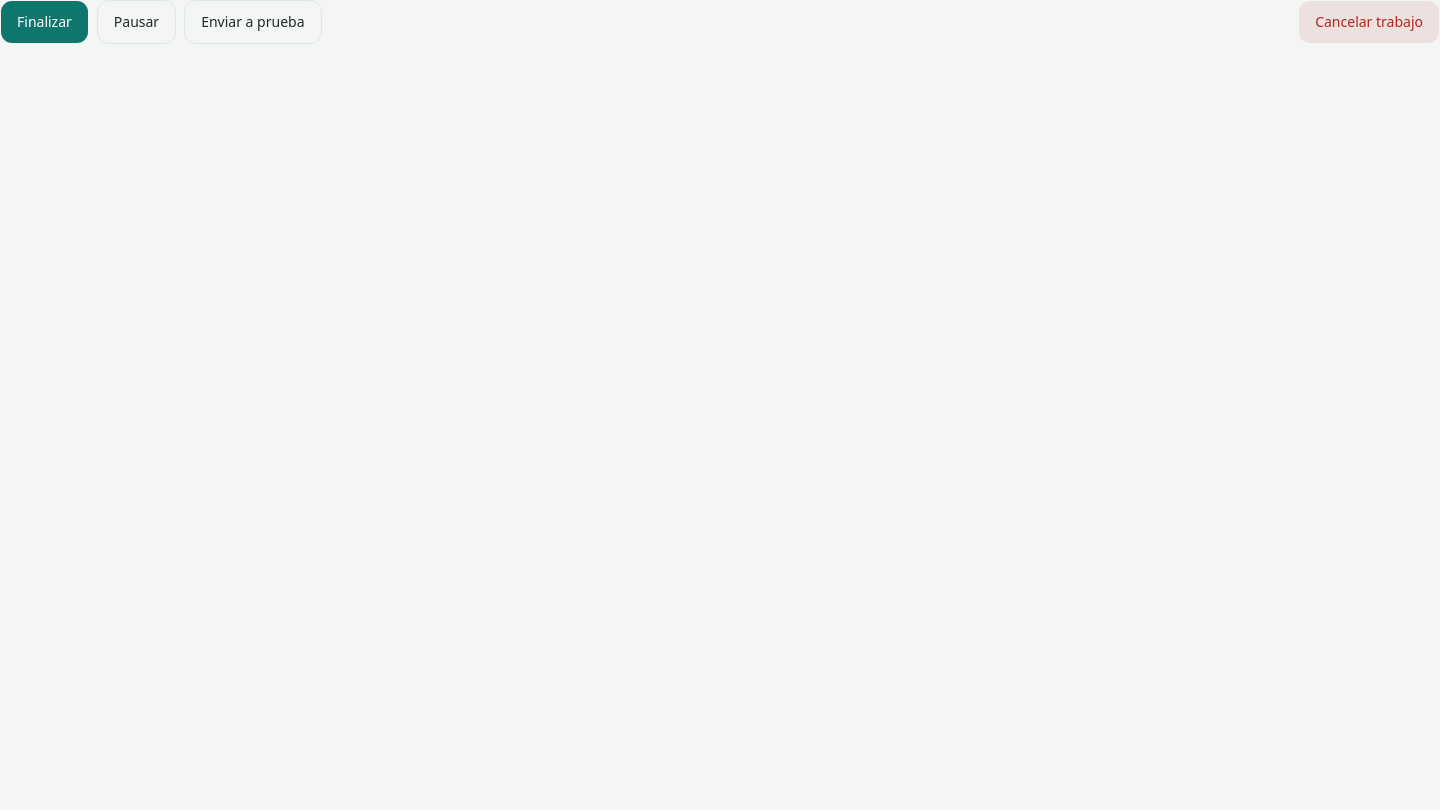
CaseActions › la confirmación de finalizar cierra con «Volver», no con «Cancelar»
Click the button "Finalizar" at x=44, y=22, box [0,0,89,44]
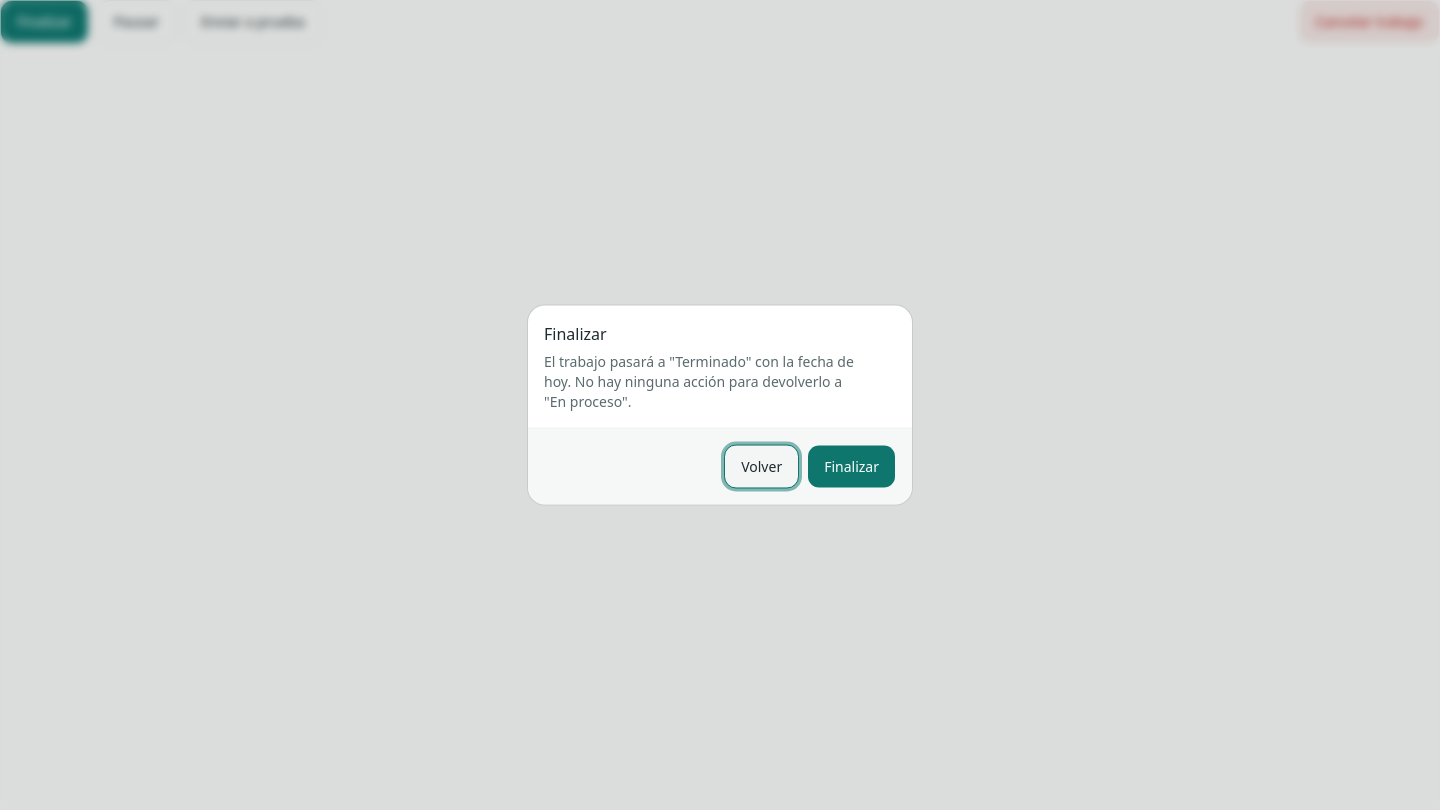
Click the button "Volver" at x=762, y=466, box [724,444,799,488]
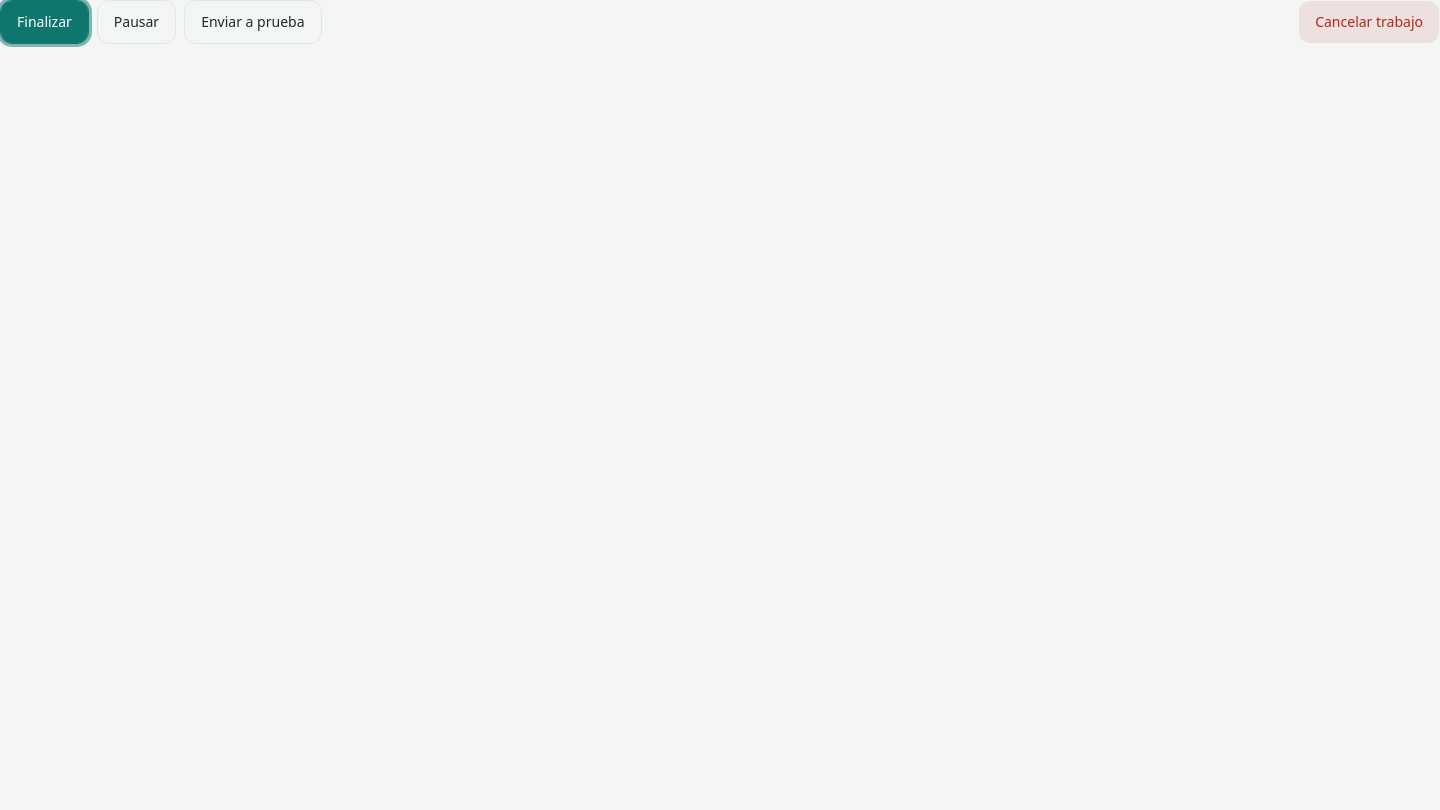
Check: the dialog is gone
